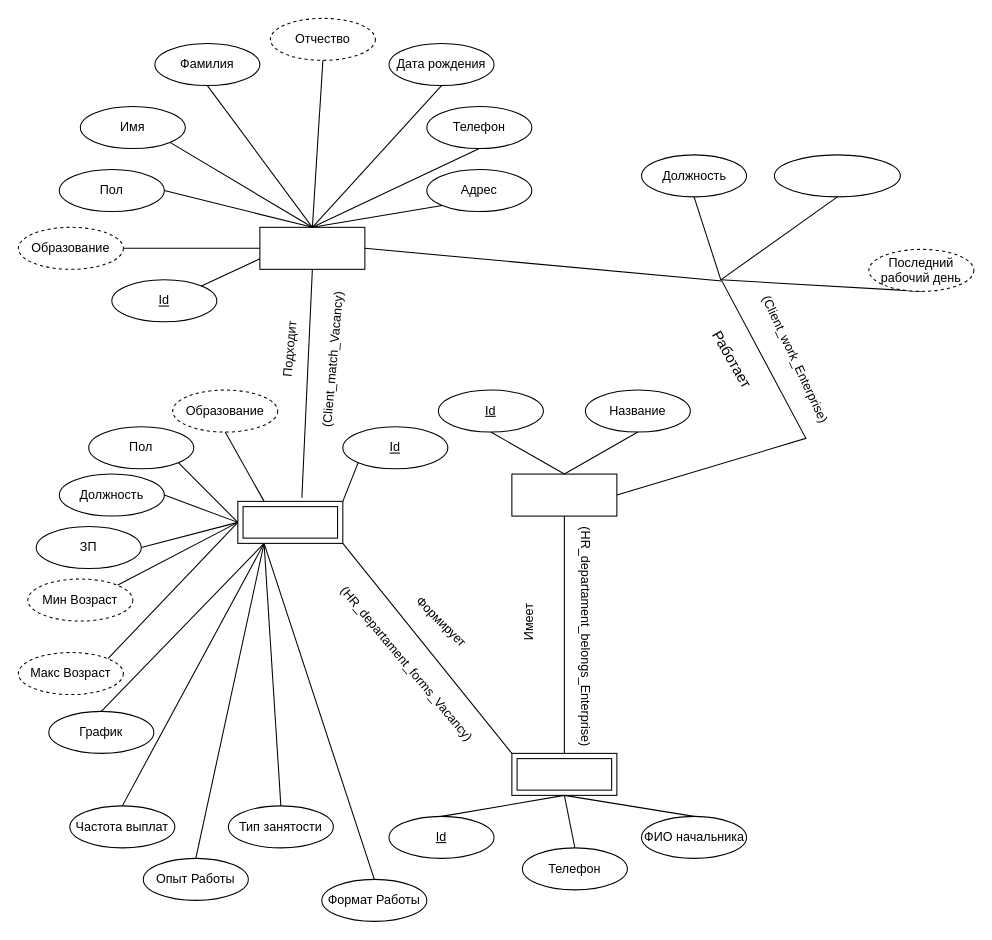
Image size: 992x940. Some labels were removed from this diagram. The shapes that lost their labels are listed below. From the top down, each one's box as (x1, y1, x2, y2) in pixels, then its label:
(773, 154, 900, 197): Первый рабочий день
(259, 226, 365, 269): Клиент
(511, 473, 617, 516): Предприятие
(237, 500, 343, 543): Вакансия
(511, 752, 617, 795): Отдел Кадров
